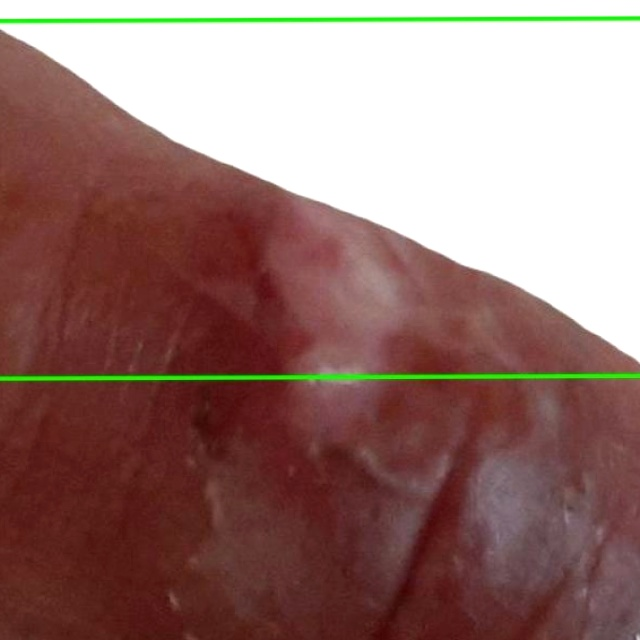Contact Dermatitis: (0, 18, 639, 639), (0, 0, 639, 378)
